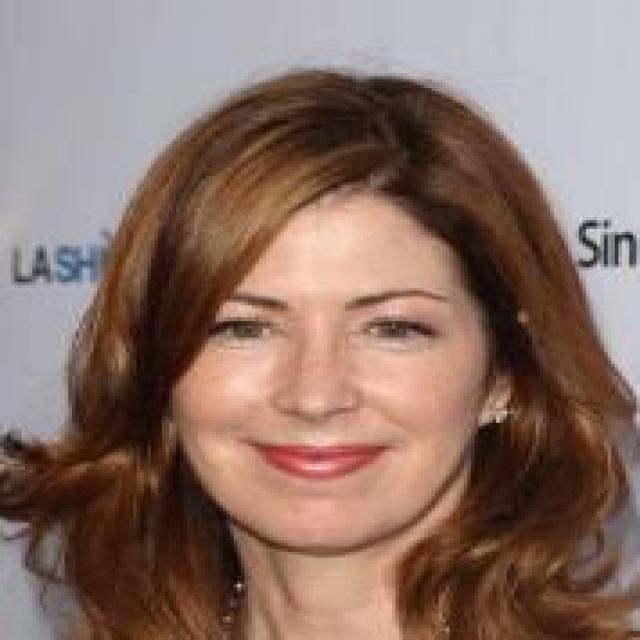nomask: (111, 102, 543, 564)
